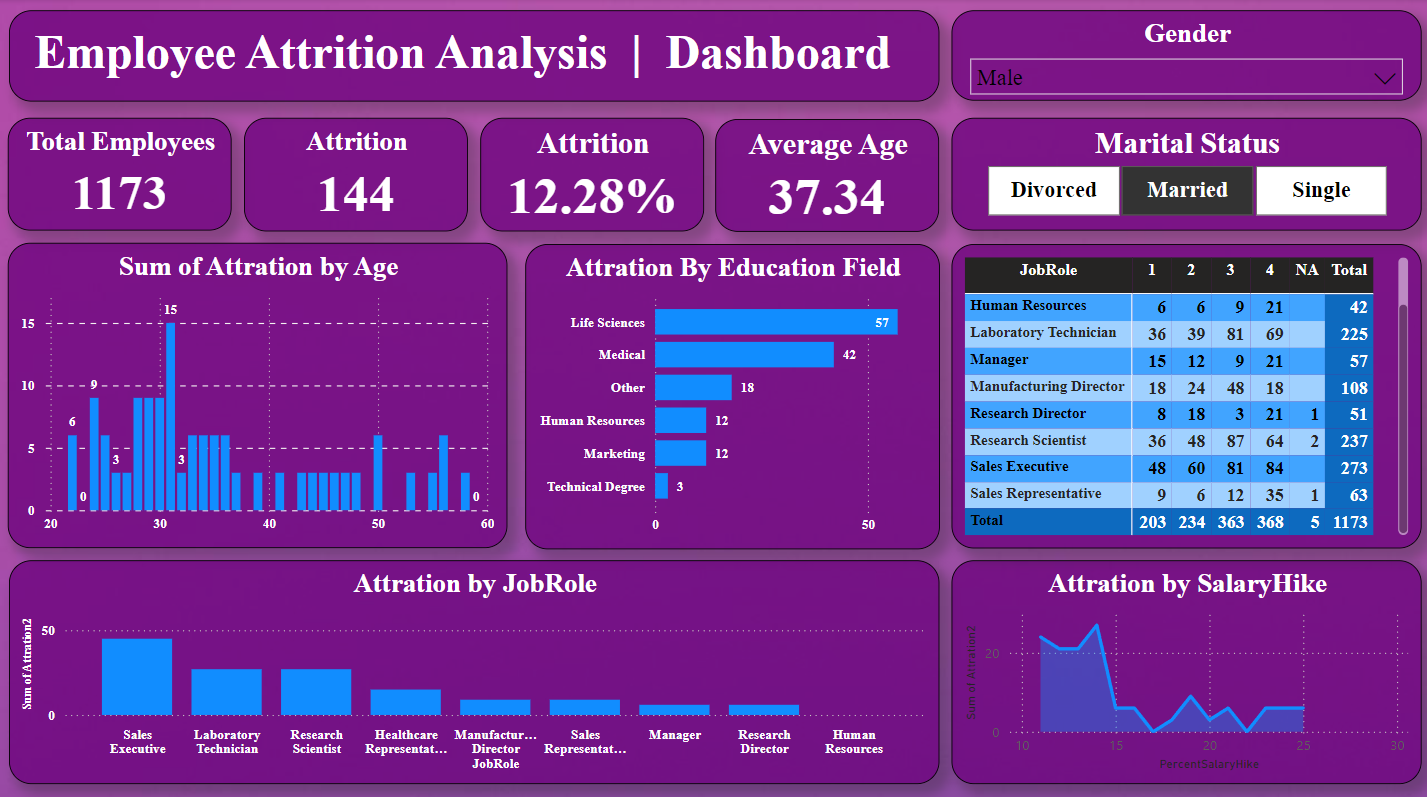

The page's visual inventory and layout, read from the dashboard file:
{"tool":"powerbi","page":{"name":"Page 1","canvas":[1280,720],"ordinal":0},"visuals":[{"type":"card","title":"Total Employees","fields":{"Values":["Sum(Attrition data.EmployeeCount)"]},"box":[8.1,105.8,200,101.2],"z":0},{"type":"card","title":"Attrition","fields":{"Values":["Sum(Attrition data.Attration2)"]},"box":[218.6,105.7,200,101.4],"z":1000},{"type":"card","title":"Attrition","fields":{"Values":["Attrition data.Attrition Percentage"]},"box":[430,105.7,200,101.4],"z":2000},{"type":"card","title":"Average Age","fields":{"Values":["Avg(Attrition data.Age)"]},"box":[640,106.7,200,101.1],"z":3000},{"type":"clusteredBarChart","title":"Attration By Education Field","fields":{"Category":["Attrition data.EducationField"],"Y":["Sum(Attrition data.Attration2)"]},"box":[470,218.6,370,272.9],"z":4000},{"type":"columnChart","title":"Sum of Attration by Age","fields":{"Category":["Attrition data.Age"],"Y":["Sum(Attrition data.Attration2)"]},"box":[8.2,218.2,446.5,272.9],"z":5000},{"type":"textbox","box":[8.6,10,831.4,81.4],"z":6000},{"type":"columnChart","title":"Attration by JobRole","fields":{"Y":["Sum(Attrition data.Attration2)"],"Category":["Attrition data.JobRole"]},"box":[8.9,501.1,831.1,200],"z":7000},{"type":"areaChart","title":"Attration by SalaryHike","fields":{"Category":["Attrition data.PercentSalaryHike"],"Y":["Sum(Attrition data.Attration2)"]},"box":[851.1,501.1,420,200],"z":8000},{"type":"pivotTable","fields":{"Rows":["Attrition data.JobRole"],"Columns":["Attrition data.JobSatisfaction"],"Values":["Sum(Attrition data.EmployeeCount)"]},"box":[851.1,218.9,420,272.2],"z":9000},{"type":"slicer","title":"Gender","fields":{"Values":["Attrition data.Gender"]},"box":[851.1,10,420,81.1],"z":10000},{"type":"slicer","title":"Marital Status","fields":{"Values":["Attrition data.MaritalStatus"]},"box":[851.1,105.6,420,101.1],"z":11000}]}

Visuals, with their boxes in screenshot pixels (x1, y1, x2, y2), scaled from the page's 1280x720 canvas onto the 1427x797 screenshot:
"Total Employees" card: Rect(9, 117, 232, 229)
"Attrition" card: Rect(244, 117, 467, 229)
"Attrition" card: Rect(479, 117, 702, 229)
"Average Age" card: Rect(714, 118, 936, 230)
"Attration By Education Field" clusteredBarChart: Rect(524, 242, 936, 544)
"Sum of Attration by Age" columnChart: Rect(9, 242, 507, 544)
textbox: Rect(10, 11, 936, 101)
"Attration by JobRole" columnChart: Rect(10, 555, 936, 776)
"Attration by SalaryHike" areaChart: Rect(949, 555, 1417, 776)
pivotTable - Attrition data.JobRole x Attrition data.JobSatisfaction: Rect(949, 242, 1417, 544)
"Gender" slicer: Rect(949, 11, 1417, 101)
"Marital Status" slicer: Rect(949, 117, 1417, 229)
